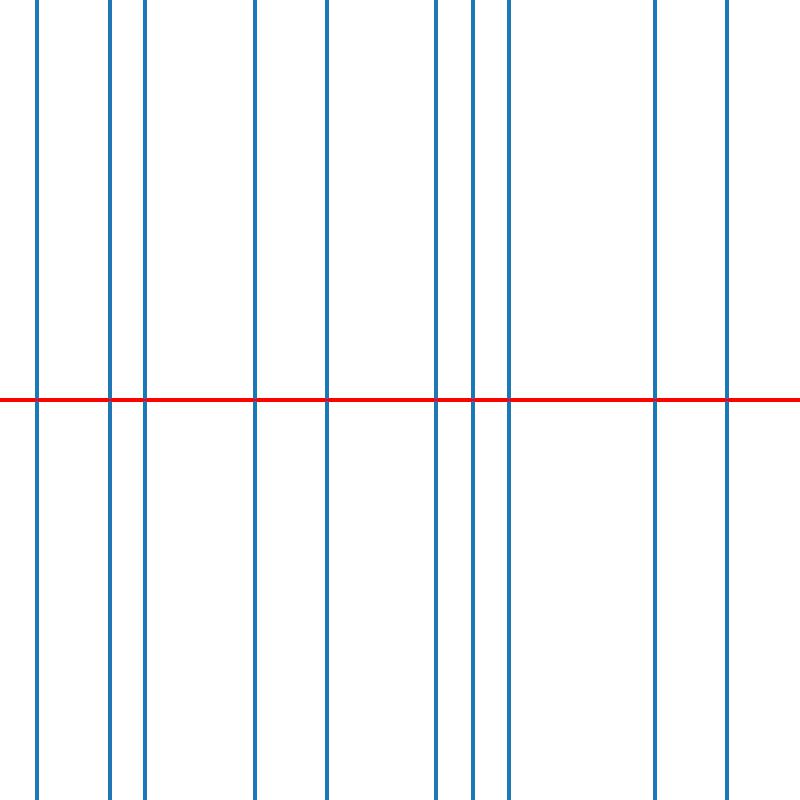root: (141, 396, 149, 404), (250, 396, 258, 404), (32, 396, 40, 404), (650, 396, 658, 404), (432, 396, 440, 404), (323, 396, 330, 404), (505, 396, 512, 404), (105, 396, 112, 404), (469, 396, 476, 404), (723, 396, 730, 404)
